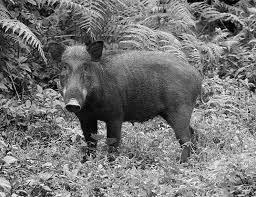wildboar: (45, 37, 205, 167)
